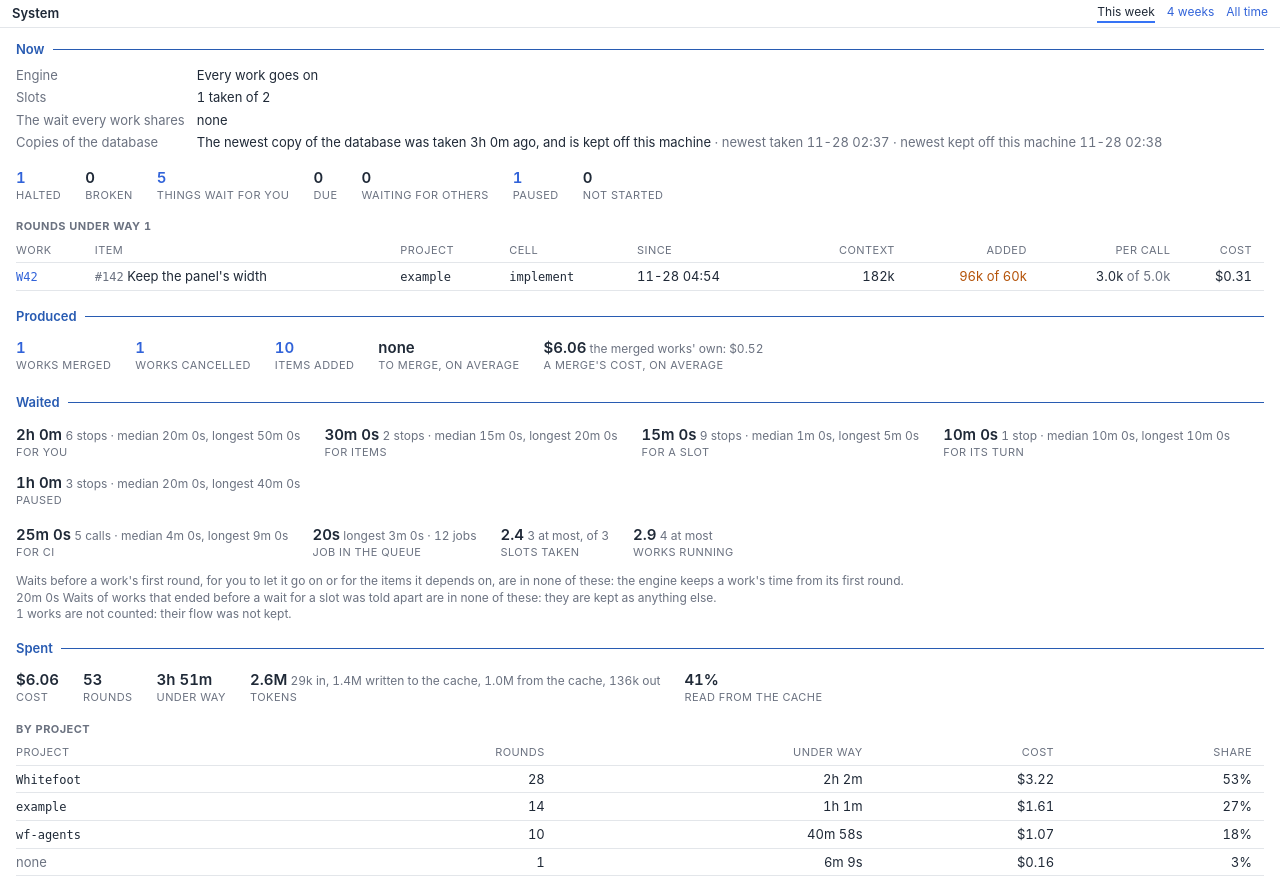
Test case: the System view › unfolds the works a count counts, and folds them again
This screenshot has width=1280, height=887.
Click the button with class "tile" showing "1 Halted" at (43,185), box [16,163,69,207]
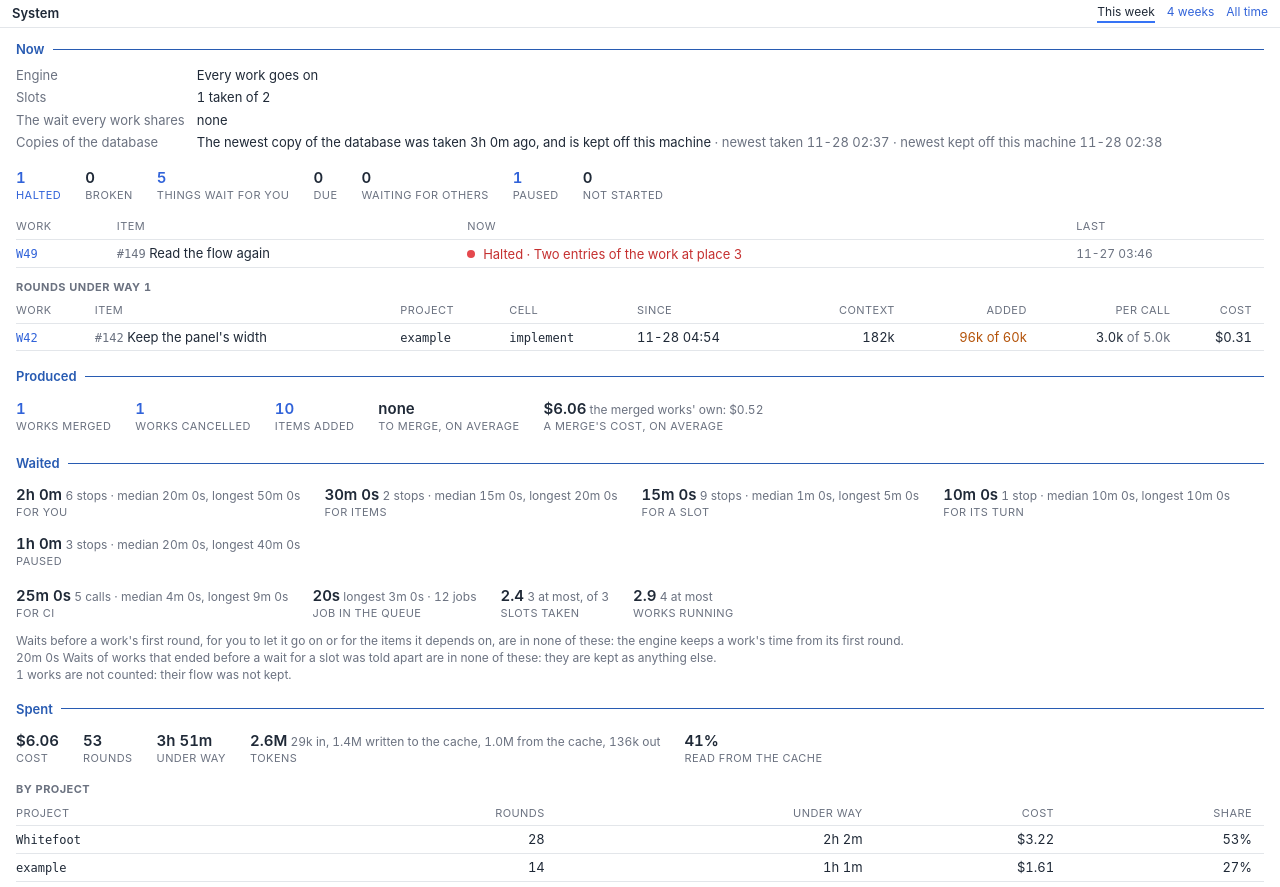
Check: the button with class "tile" is expanded
Click the button with class "tile" showing "1 Halted" at (43,185), box [16,163,69,207]
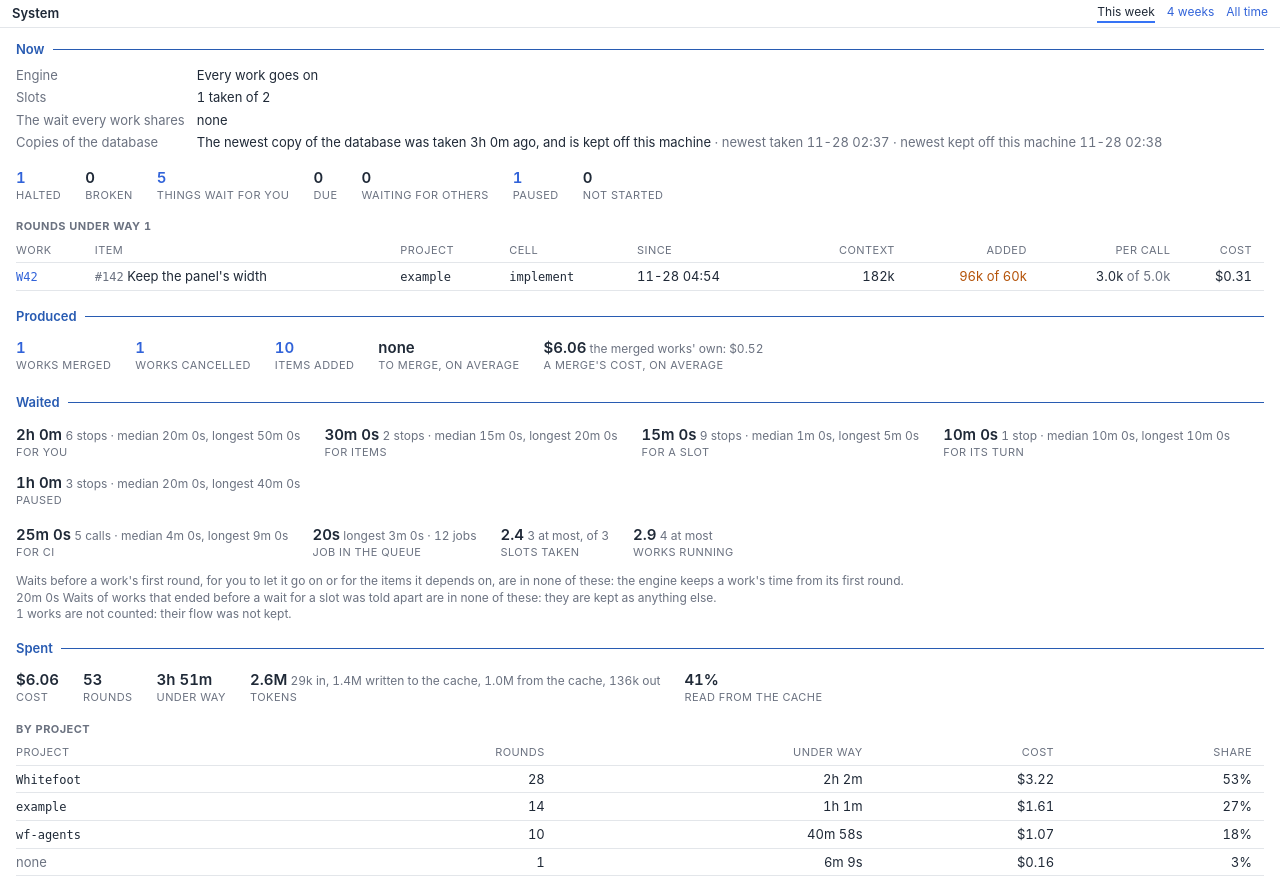
Check: the element named "Halted" is gone
